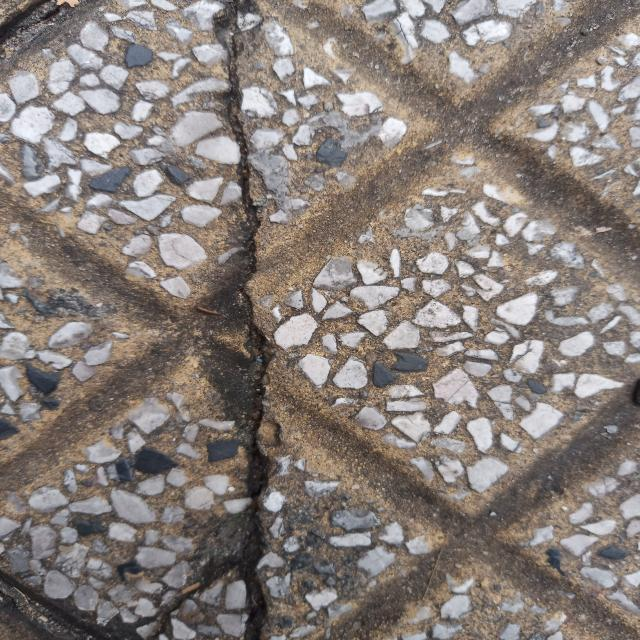vertical cracks: (215, 0, 267, 640)
